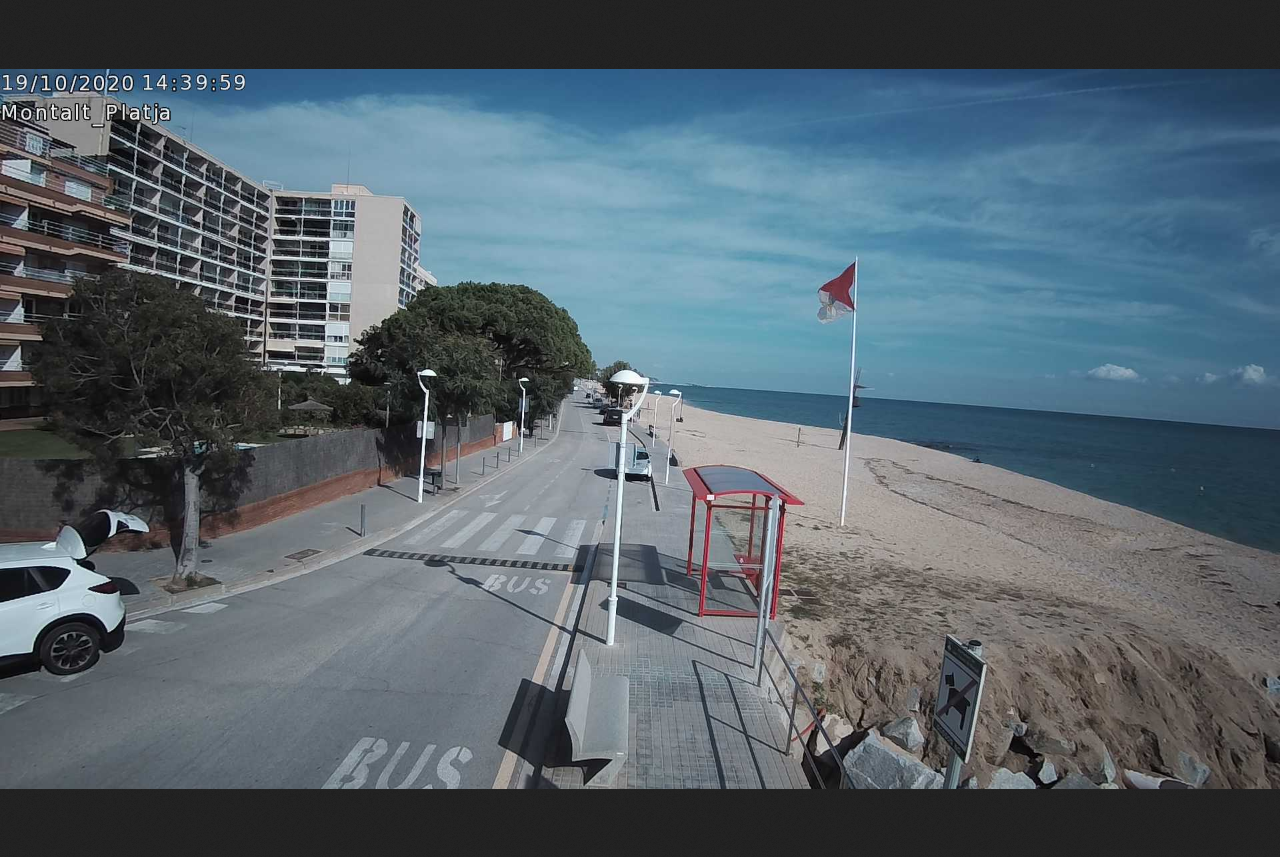maybe: (810, 253, 866, 328)
